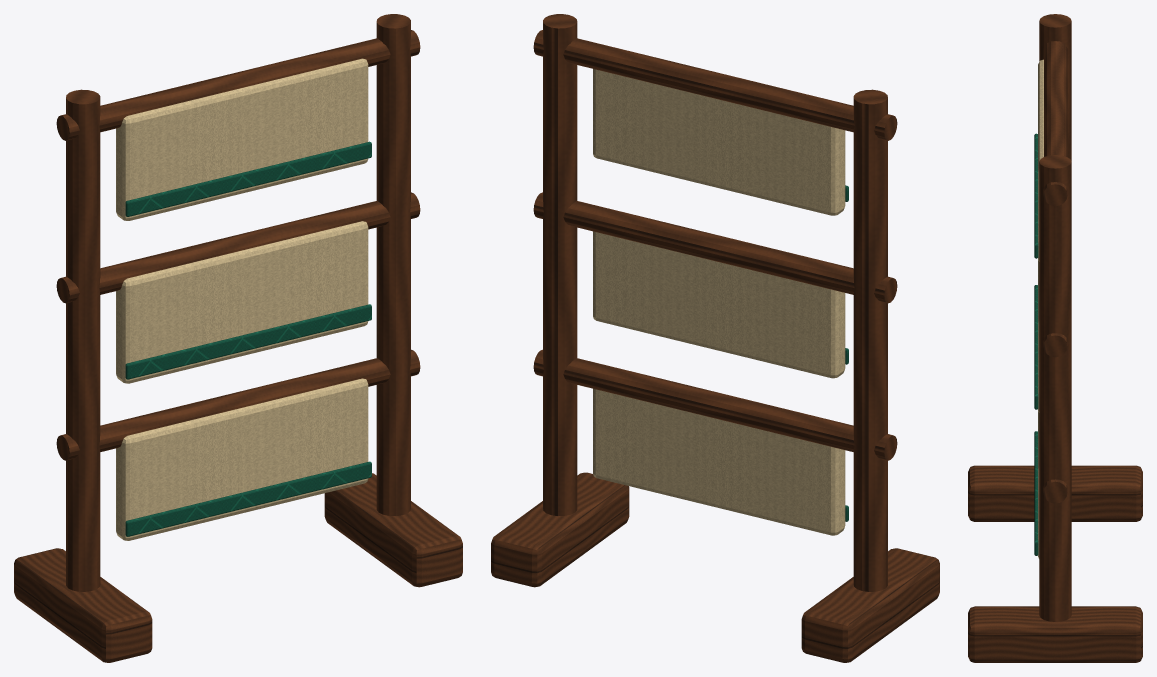
File: towel_rack.glb
The picture shows the model from 3 angles, left to right: view 1: azimuth 30°, elevation 25°; view 2: azimuth 150°, elevation 25°; view 3: azimuth 270°, elevation 25°; orthographic projection. The views are drawn at different scales.
Parts seen in each view (by area): view 1: towel_rack_Paper, towel_rack_Walnut, towel_rack_Silk; view 2: towel_rack_Walnut, towel_rack_Paper; view 3: towel_rack_Walnut, towel_rack_Silk, towel_rack_Paper.
Boxes of the visible parts, bbox=[...] form: towel_rack_Paper: bbox=[116, 58, 368, 540]; towel_rack_Walnut: bbox=[14, 14, 462, 662]; towel_rack_Silk: bbox=[125, 141, 371, 536]; towel_rack_Walnut: bbox=[491, 14, 939, 662]; towel_rack_Paper: bbox=[593, 69, 845, 535]; towel_rack_Walnut: bbox=[968, 14, 1142, 662]; towel_rack_Silk: bbox=[1034, 133, 1038, 555]; towel_rack_Paper: bbox=[1038, 59, 1043, 558].
Bounding box in the file's own units: 1.44 × 2.02 × 0.65.
3 materials, 3 textured.
